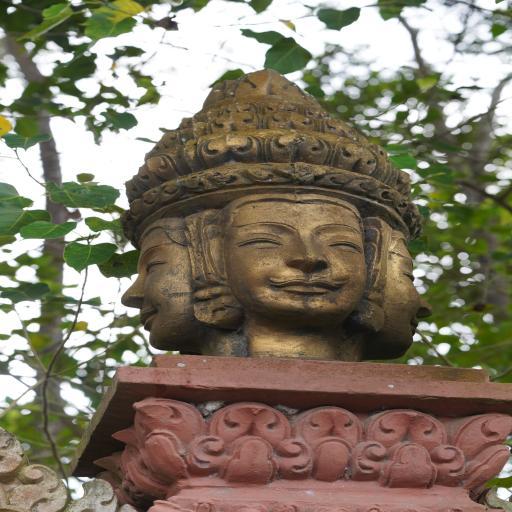la: (353, 404, 464, 490), (195, 400, 304, 482), (118, 401, 224, 485), (280, 401, 374, 482), (438, 410, 512, 496), (3, 460, 65, 512)
than: (58, 44, 498, 366), (212, 196, 373, 327), (111, 217, 216, 344), (366, 214, 442, 360)
